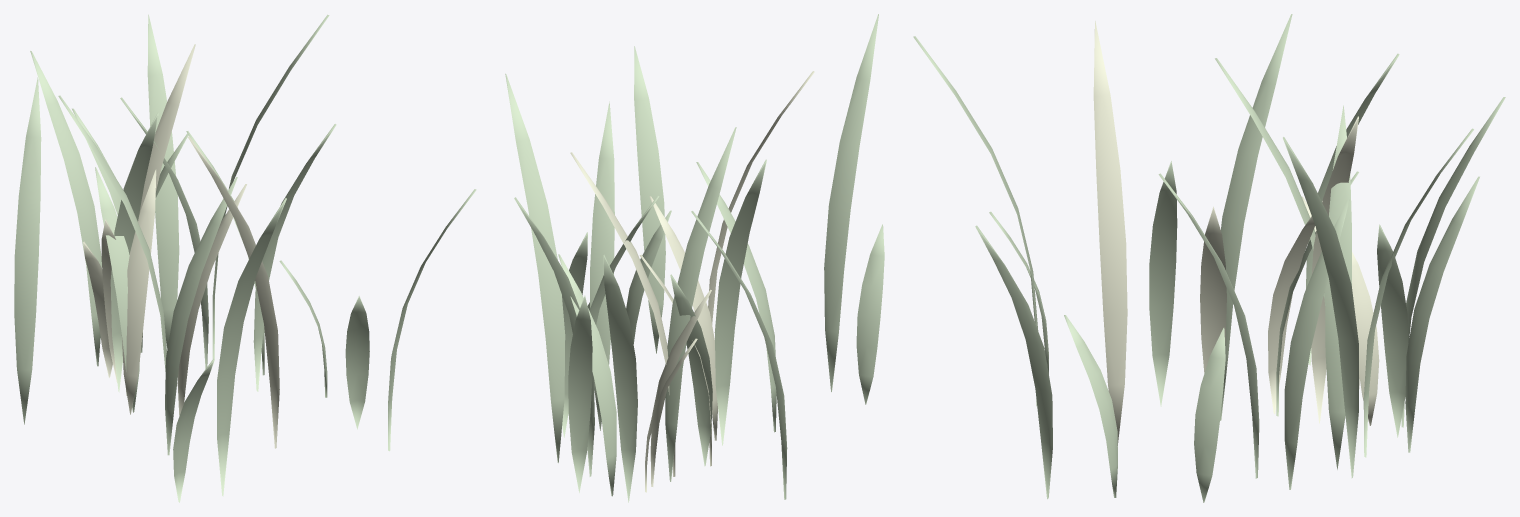
The model's file is SM_WLA_Grass_B.fbx.
3 renders of one model, left to right at view 1: azimuth 30°, elevation 25°; view 2: azimuth 150°, elevation 25°; view 3: azimuth 270°, elevation 25°, orthographic. The views are drawn at different scales.
Parts seen in each view (by area): view 1: SM_WLA_Grass_B; view 2: SM_WLA_Grass_B; view 3: SM_WLA_Grass_B.
Part boxes in pixels (x1,y1,x2,y2): SM_WLA_Grass_B: [14, 14, 476, 502]; SM_WLA_Grass_B: [505, 14, 884, 502]; SM_WLA_Grass_B: [913, 14, 1505, 502].
Bounding box in the file's own units: 0.5275 × 0.3502 × 0.3799.
